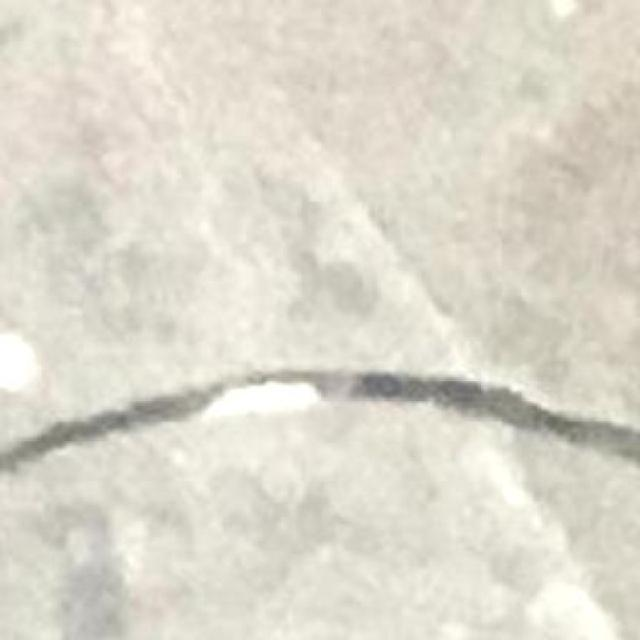SurfaceCrack: (2, 332, 640, 514)
